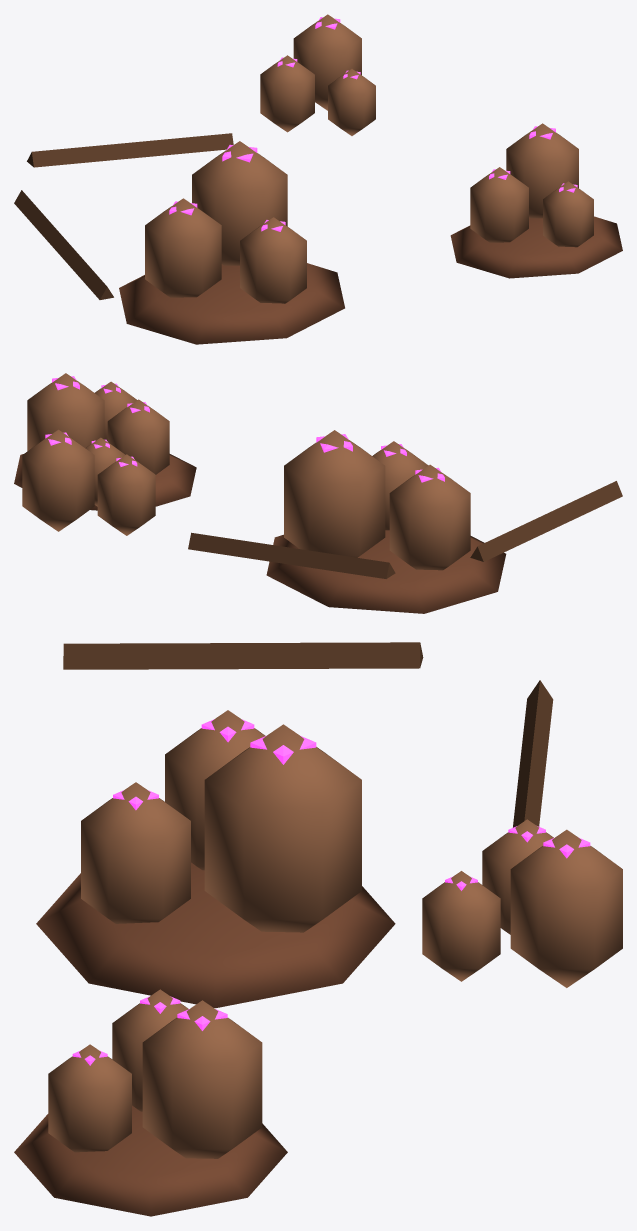
Rendered from overworld-settlement-eggs-rural.glb.
The picture shows the model from 3 angles, top to bottom: view 1: azimuth 30°, elevation 25°; view 2: azimuth 150°, elevation 25°; view 3: azimuth 270°, elevation 25°; orthographic projection. The views are drawn at different scales.
Visible parts, largest first — view 1: cluster1_mound, cluster1_egg0, cluster2_mound, cluster1_egg1, cluster1_egg2, cluster2_egg0, cluster2_egg1, cluster0_egg0, web0, cluster0_egg1, cluster2_egg2, cluster0_egg2 (+1 smaller); view 2: cluster1_egg0, cluster1_mound, cluster1_egg1, cluster0_egg0, cluster2_egg0, cluster0_egg1, web0, cluster2_egg1, web1, cluster2_mound, cluster1_egg2, cluster2_egg2 (+1 smaller); view 3: cluster1_mound, cluster1_egg0, cluster2_mound, cluster2_egg0, cluster0_egg0, cluster1_egg2, web1, cluster2_egg2, cluster0_egg2, cluster1_egg1, web0, cluster2_egg1 (+1 smaller).
Boxes of the visible parts, x1=… form: cluster1_mound: x1=119, y1=263, x2=344, y2=344; cluster1_egg0: x1=192, y1=141, x2=287, y2=265; cluster2_mound: x1=450, y1=216, x2=622, y2=278; cluster1_egg1: x1=145, y1=198, x2=221, y2=297; cluster1_egg2: x1=240, y1=217, x2=306, y2=303; cluster2_egg0: x1=506, y1=123, x2=578, y2=218; cluster2_egg1: x1=470, y1=167, x2=528, y2=242; cluster0_egg0: x1=293, y1=14, x2=361, y2=110; web0: x1=27, y1=133, x2=233, y2=167; cluster0_egg1: x1=260, y1=55, x2=314, y2=132; cluster2_egg2: x1=543, y1=181, x2=593, y2=247; cluster0_egg2: x1=328, y1=69, x2=375, y2=135; cluster1_egg0: x1=284, y1=430, x2=385, y2=557; cluster1_mound: x1=266, y1=530, x2=506, y2=613; cluster1_egg1: x1=389, y1=464, x2=470, y2=570; cluster0_egg0: x1=22, y1=429, x2=94, y2=531; cluster2_egg0: x1=27, y1=373, x2=104, y2=450; cluster0_egg1: x1=97, y1=454, x2=155, y2=535; web0: x1=188, y1=532, x2=395, y2=578; cluster2_egg1: x1=107, y1=399, x2=169, y2=474; web1: x1=470, y1=481, x2=622, y2=561; cluster2_mound: x1=14, y1=454, x2=196, y2=510; cluster1_egg2: x1=372, y1=441, x2=428, y2=530; cluster2_egg2: x1=95, y1=381, x2=137, y2=440; cluster1_mound: x1=36, y1=862, x2=395, y2=1008; cluster1_egg0: x1=204, y1=724, x2=361, y2=932; cluster2_mound: x1=14, y1=1105, x2=287, y2=1216; cluster2_egg0: x1=142, y1=1000, x2=262, y2=1158; cluster0_egg0: x1=510, y1=829, x2=622, y2=987; cluster1_egg2: x1=81, y1=782, x2=190, y2=923; web1: x1=63, y1=642, x2=423, y2=669; cluster2_egg2: x1=48, y1=1044, x2=131, y2=1152; cluster0_egg2: x1=422, y1=871, x2=500, y2=981; cluster1_egg1: x1=165, y1=710, x2=265, y2=870; web0: x1=513, y1=680, x2=553, y2=827; cluster2_egg1: x1=112, y1=989, x2=188, y2=1111.
Bounding box in the file's own units: 0.4764 × 0.131 × 0.2817.
